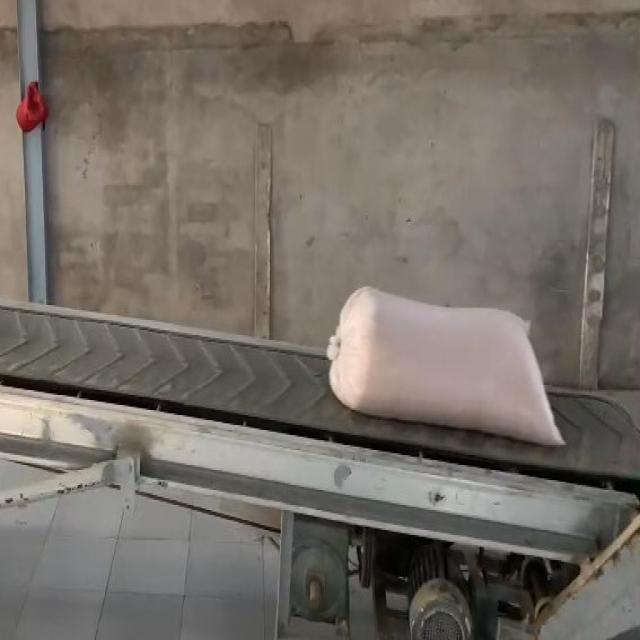gunny_bag: (331, 287, 566, 446)
